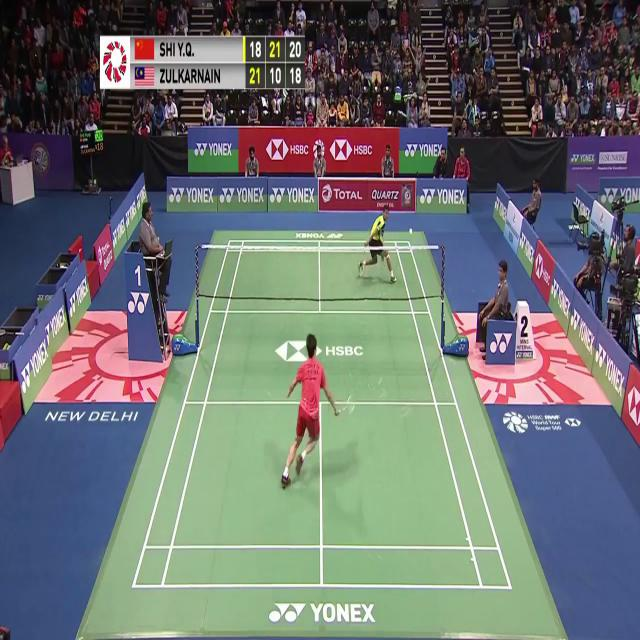Shuttlecock: (408, 227, 415, 239)
